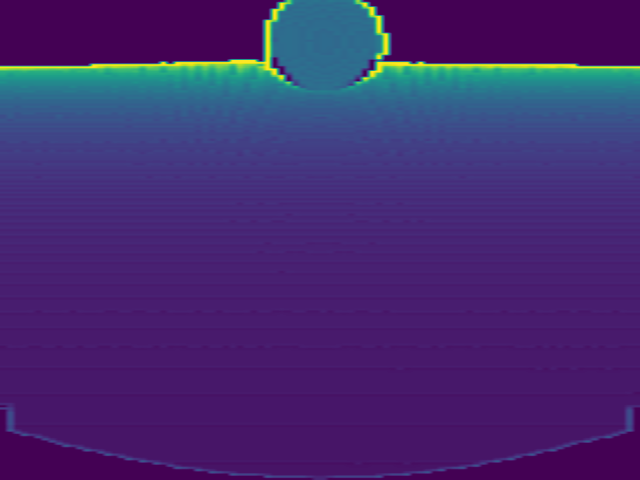sphere: (261, 1, 390, 95)
